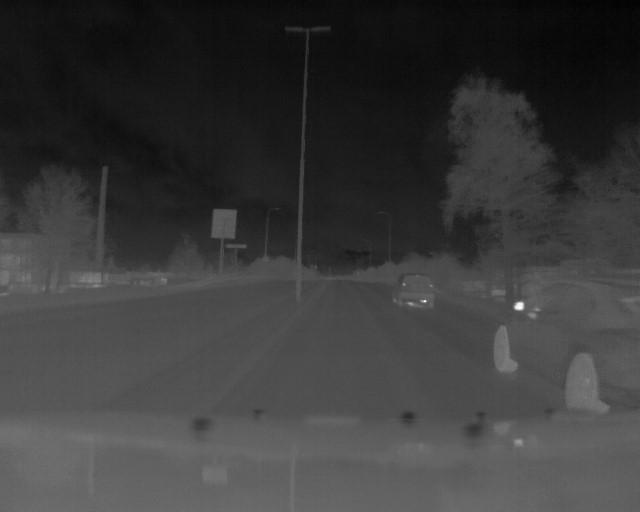car: (489, 278, 640, 419), (389, 273, 436, 310)
